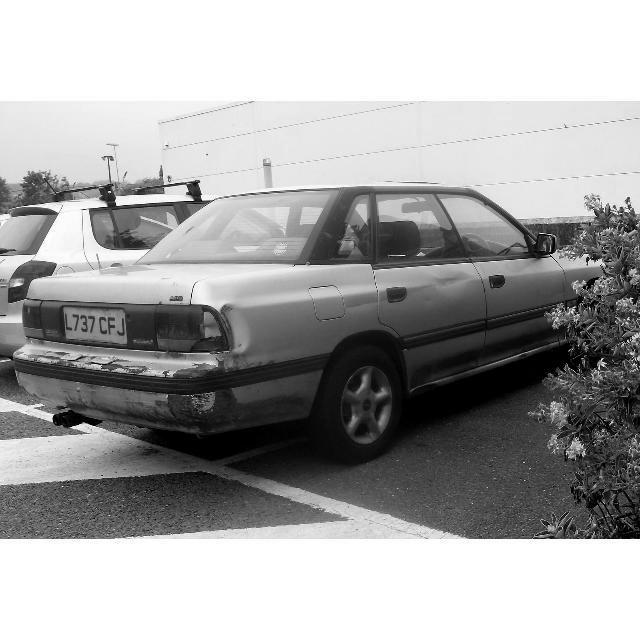doorouter-dent: (376, 257, 499, 373)
rear-bumper-dent: (0, 329, 250, 435)
